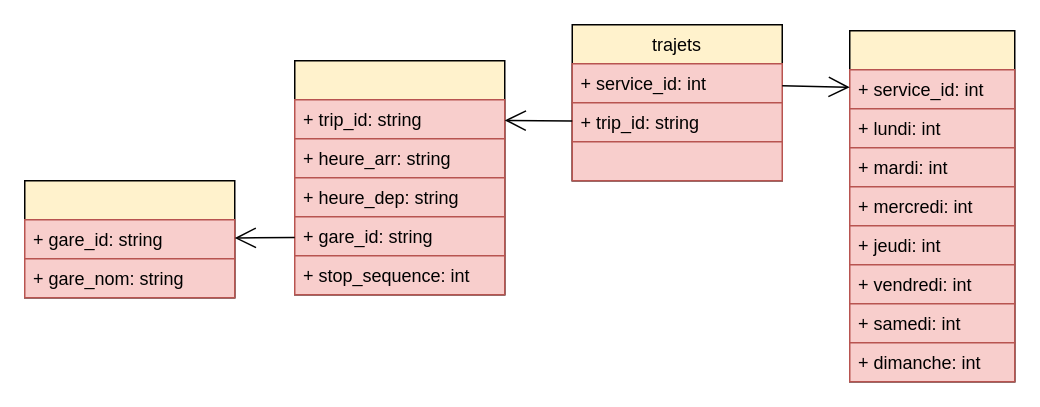
The diagram is 1040 pixels wide and 407 high, and some of its shapes have lost their labels. The box of each missing label's shape, as (x1, y1, x2, y2) in pixels:
+ num_train: string: (571, 140, 782, 181)
calendrier: (848, 29, 1015, 382)
gares: (23, 179, 235, 298)
horaires: (293, 59, 505, 295)
